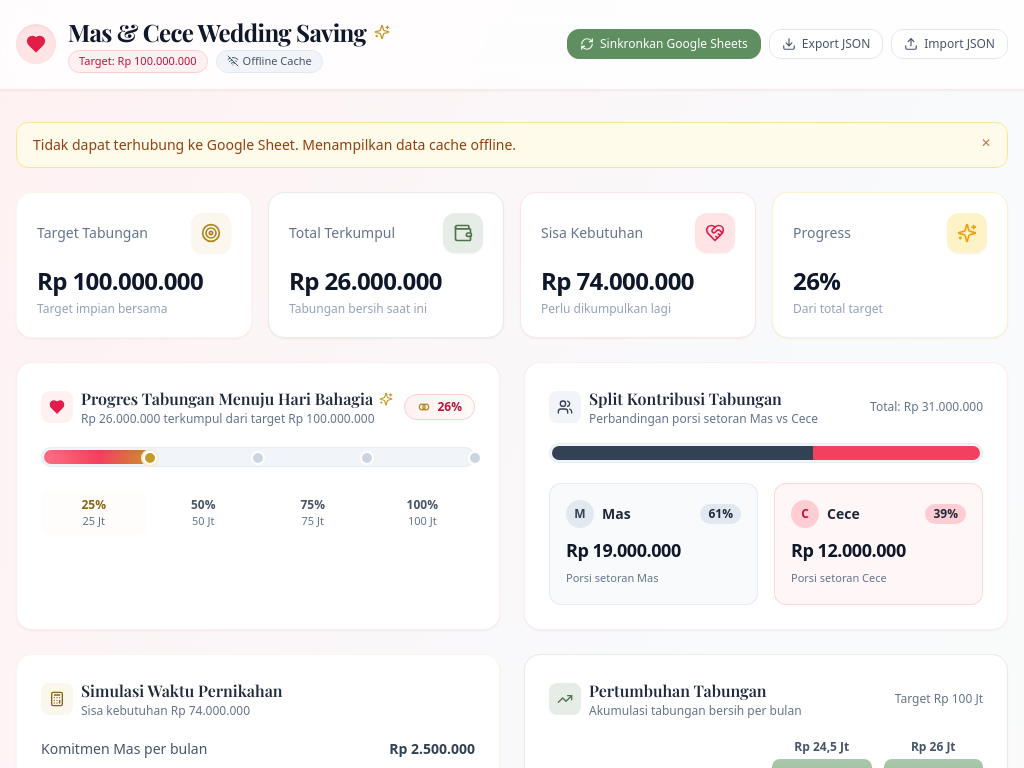
Test: App Component › clears offline notice after a successful re-sync
Expected: the element with test id "sync-status" reads "Offline Cache", x1=243 y1=53 x2=312 y2=68
Expected: the message "Tidak dapat terhubung ke Google Sheet. Menampilkan data cache offline. ✕" is shown, x1=16 y1=122 x2=1008 y2=168
Click the button "Sinkronkan Google Sheets": (664, 44) x1=567 y1=29 x2=761 y2=59
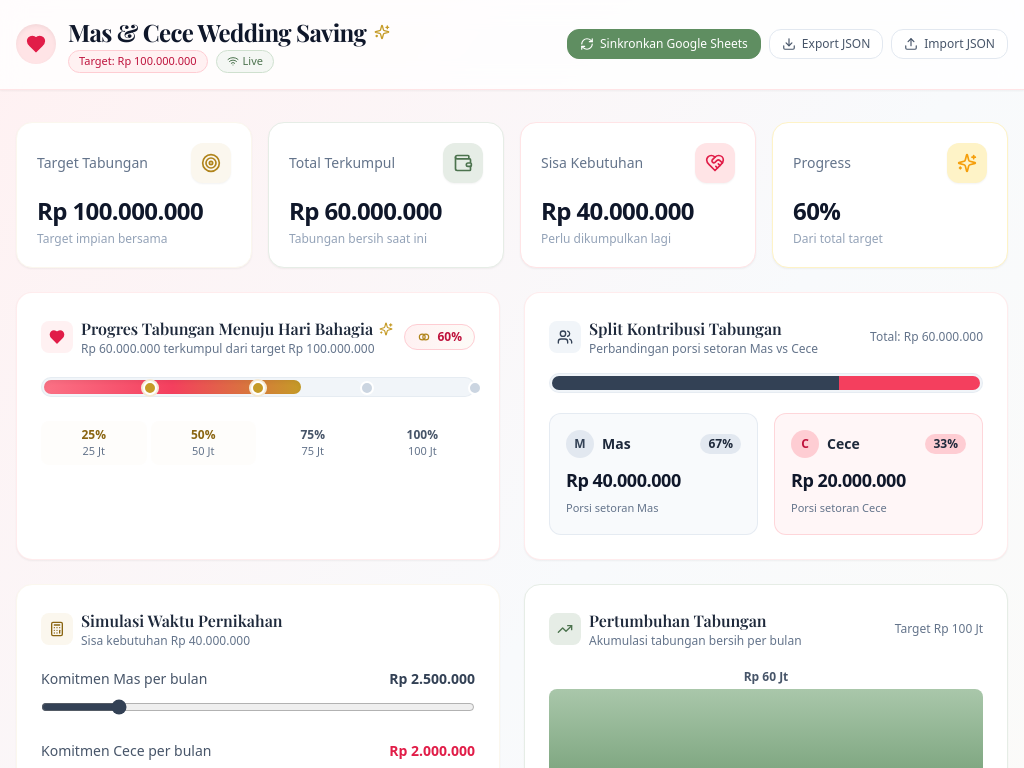
Now the element with test id "sync-status" reads "Live", box x1=243 y1=53 x2=263 y2=68
Now the message "Tidak dapat terhubung ke Google Sheet. Menampilkan data cache offline. ✕" is gone
